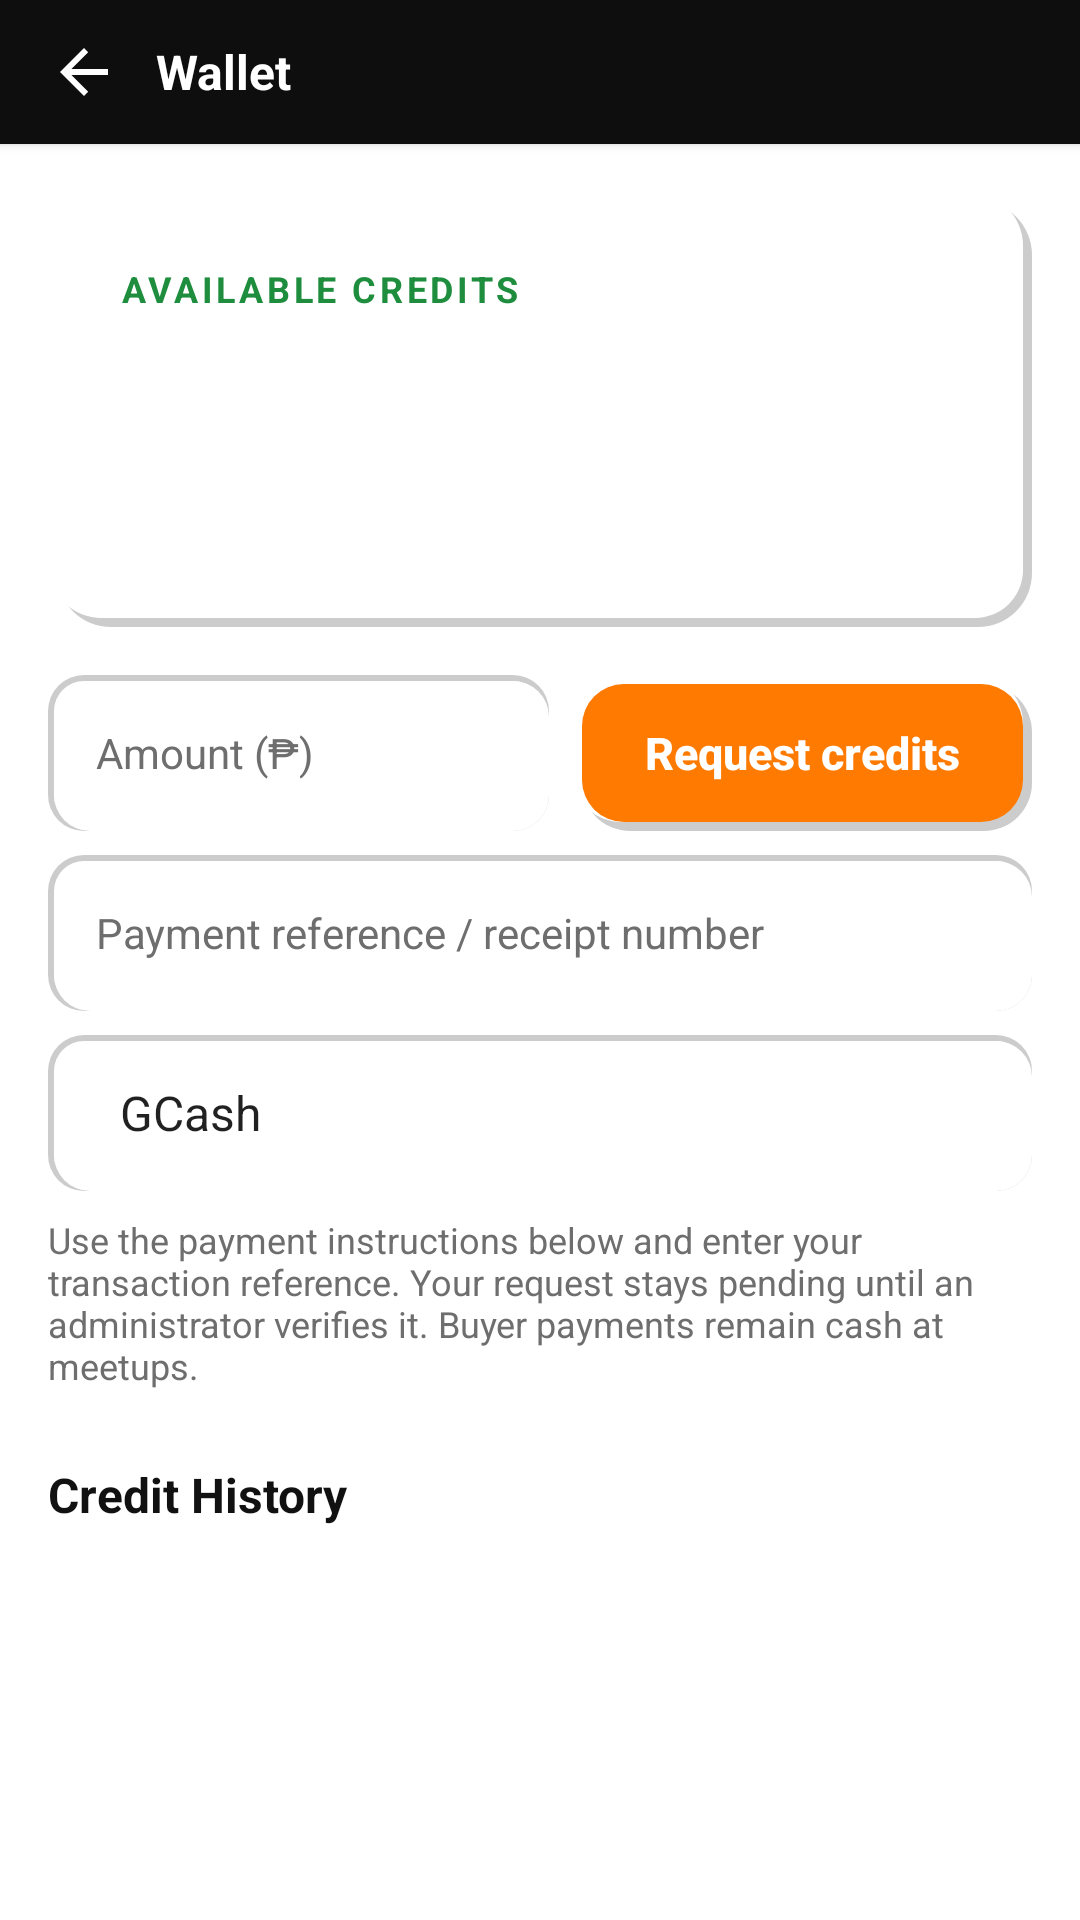

Named icons in this screenshot (1080w x 1920h) and their bounding boxes, bbox=(x1, y1, x2, y2):
Navigate back: bbox=(60, 48, 108, 96)
